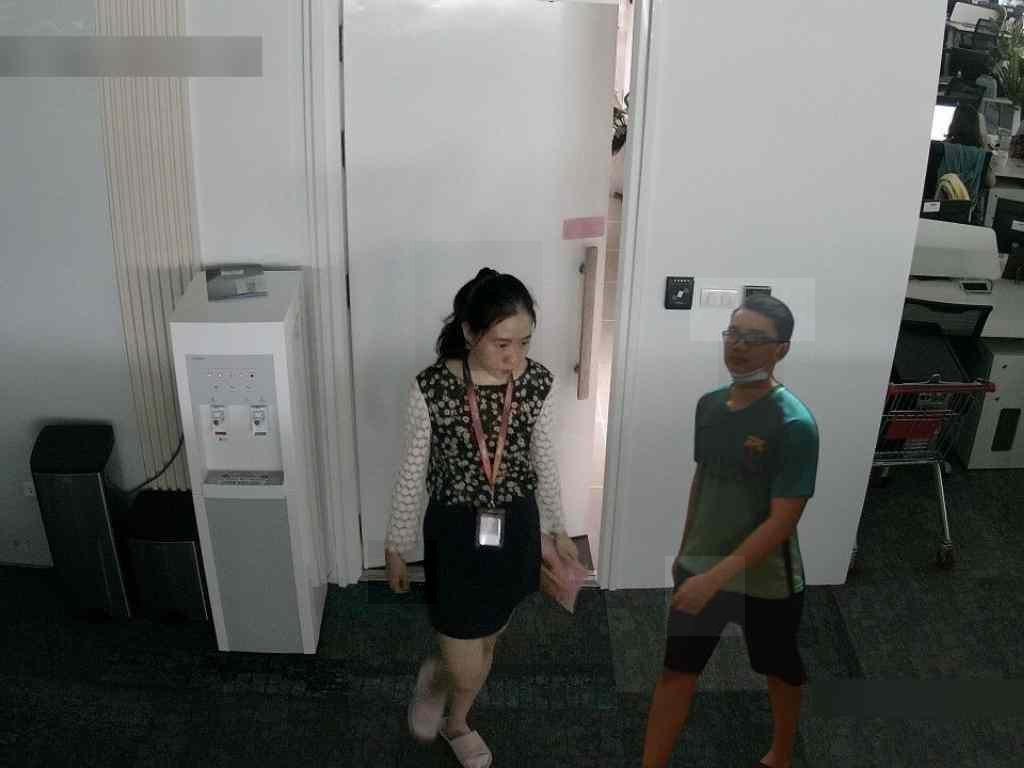no_apron: (666, 556, 746, 636), (368, 541, 437, 605)
no_gloves: (415, 241, 542, 371), (690, 278, 816, 342)
no_hairnet: (718, 302, 784, 389), (470, 299, 538, 381)
